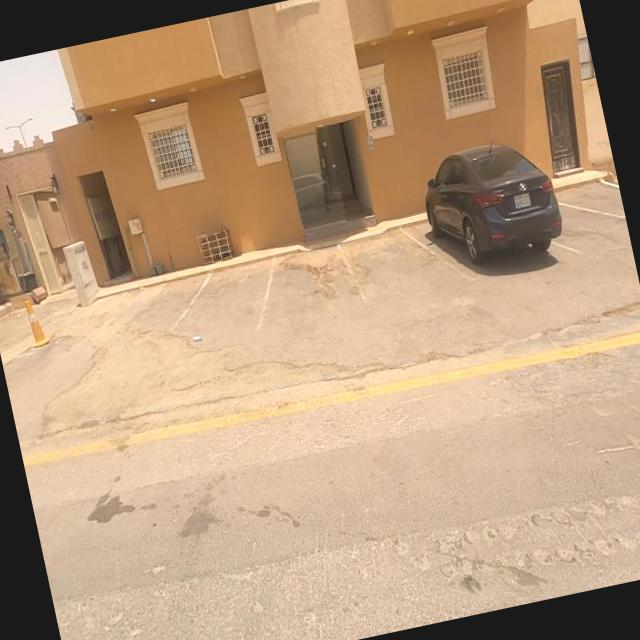debris: (164, 290, 219, 384)
